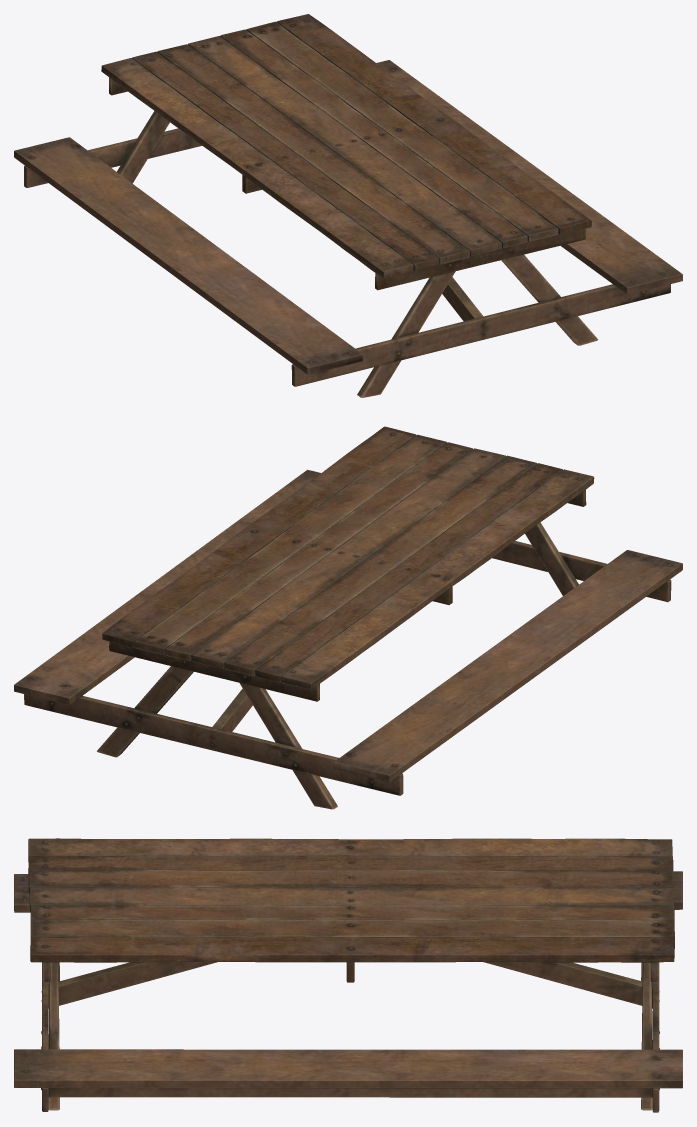
The model's file is picnic_table.glb.
3 views of the same model, one above another, from view 1: azimuth 30°, elevation 25°; view 2: azimuth 150°, elevation 25°; view 3: azimuth 270°, elevation 25° (orthographic). The views are drawn at different scales.
Visible parts, largest first — view 1: wooden_picnic_table; view 2: wooden_picnic_table; view 3: wooden_picnic_table.
Boxes of the visible parts, x1,y1,x2,y2 form: wooden_picnic_table: (14, 14, 682, 397); wooden_picnic_table: (14, 426, 682, 809); wooden_picnic_table: (14, 838, 682, 1112).
Bounding box in the file's own units: 2.24 × 0.746 × 3.02.
2 materials, 2 textured.
